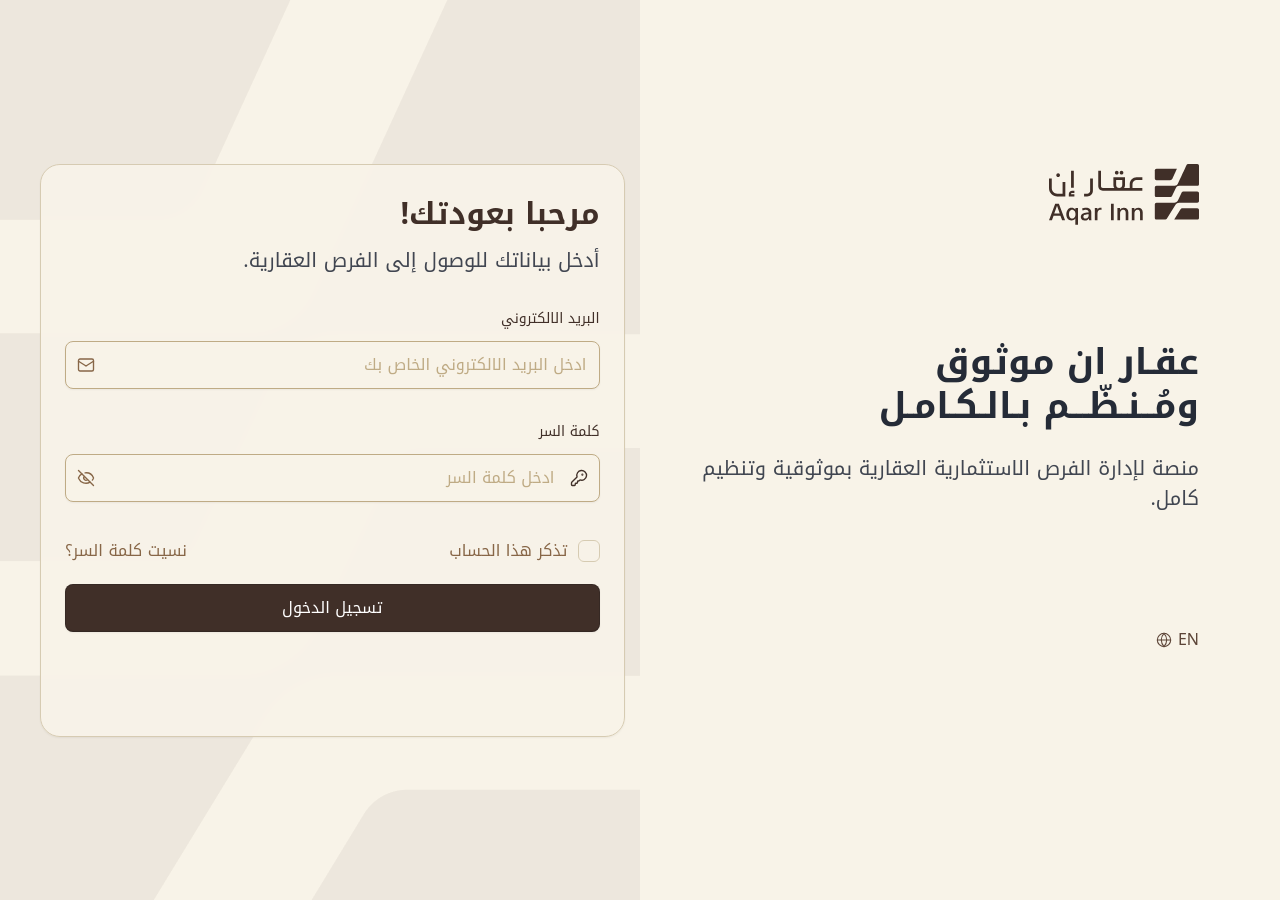
Auth flow routes › shows the invalid email state inside login
Type "invalid-email" into the field with placeholder "ادخل البريد الالكتروني الخاص بك". click: (332, 364)
box: [65, 340, 600, 388]
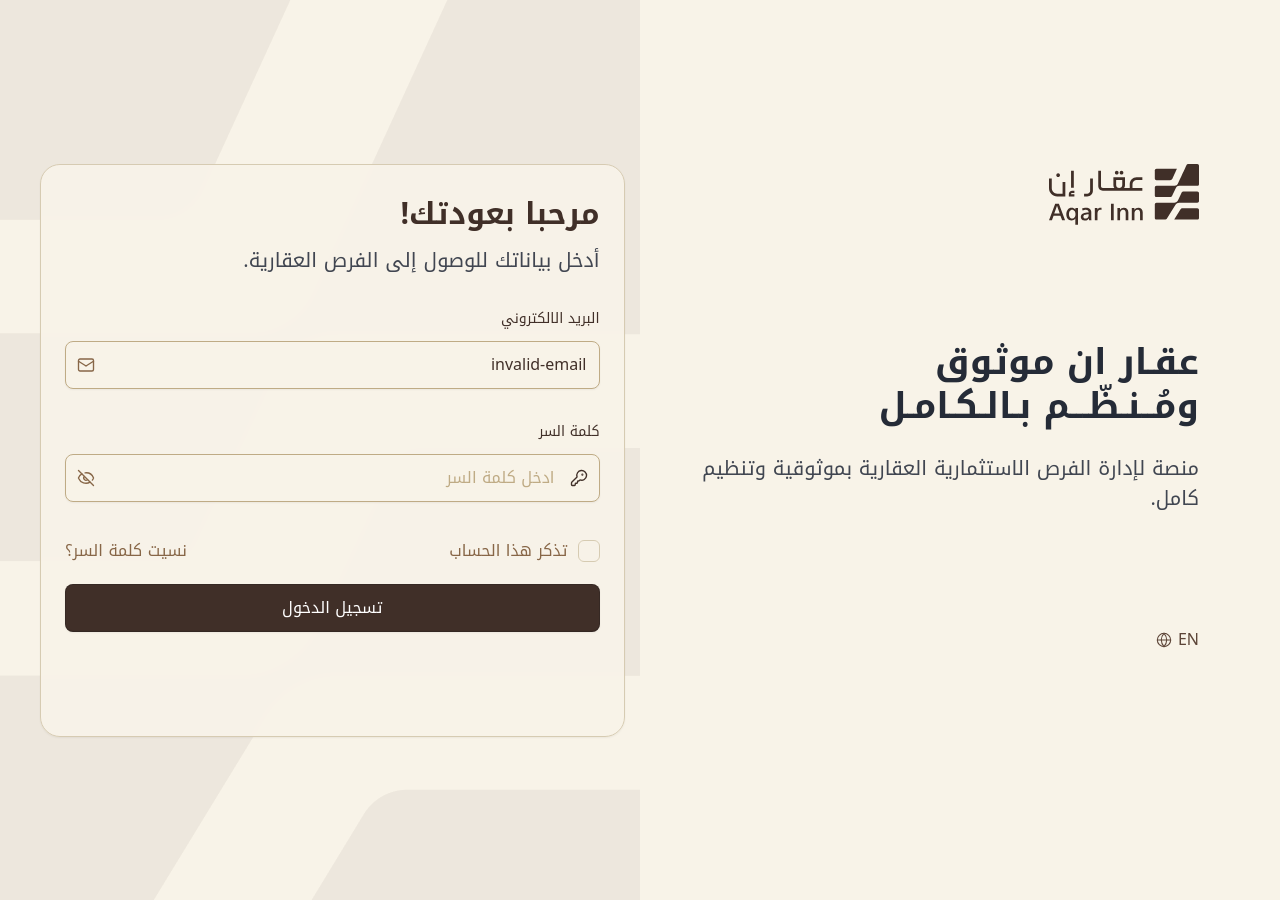
Type "123456" into the password field with placeholder "ادخل كلمة السر". click: (332, 478)
box: [65, 454, 600, 502]
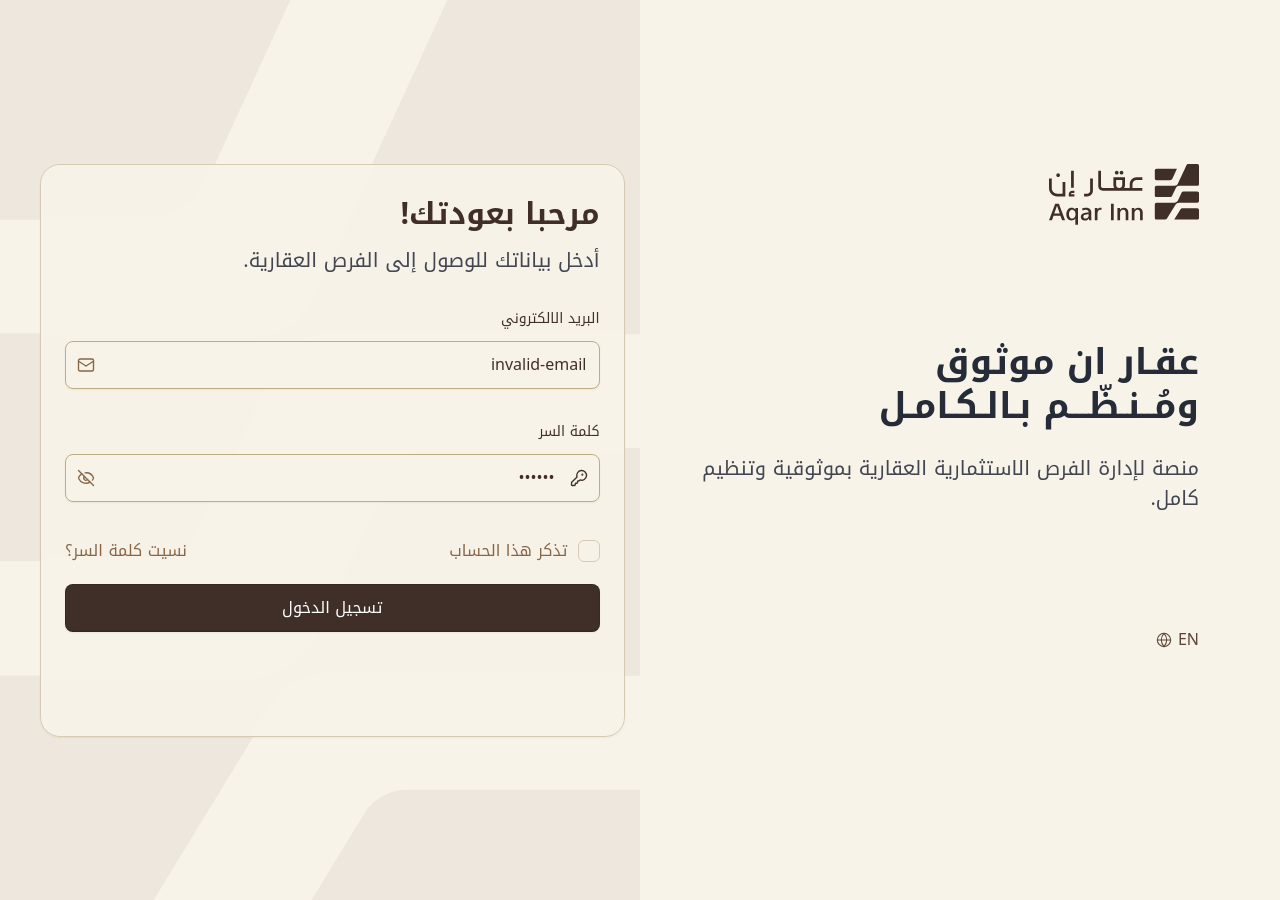
Click the button "تسجيل الدخول". click: (332, 608)
box: [65, 584, 600, 632]
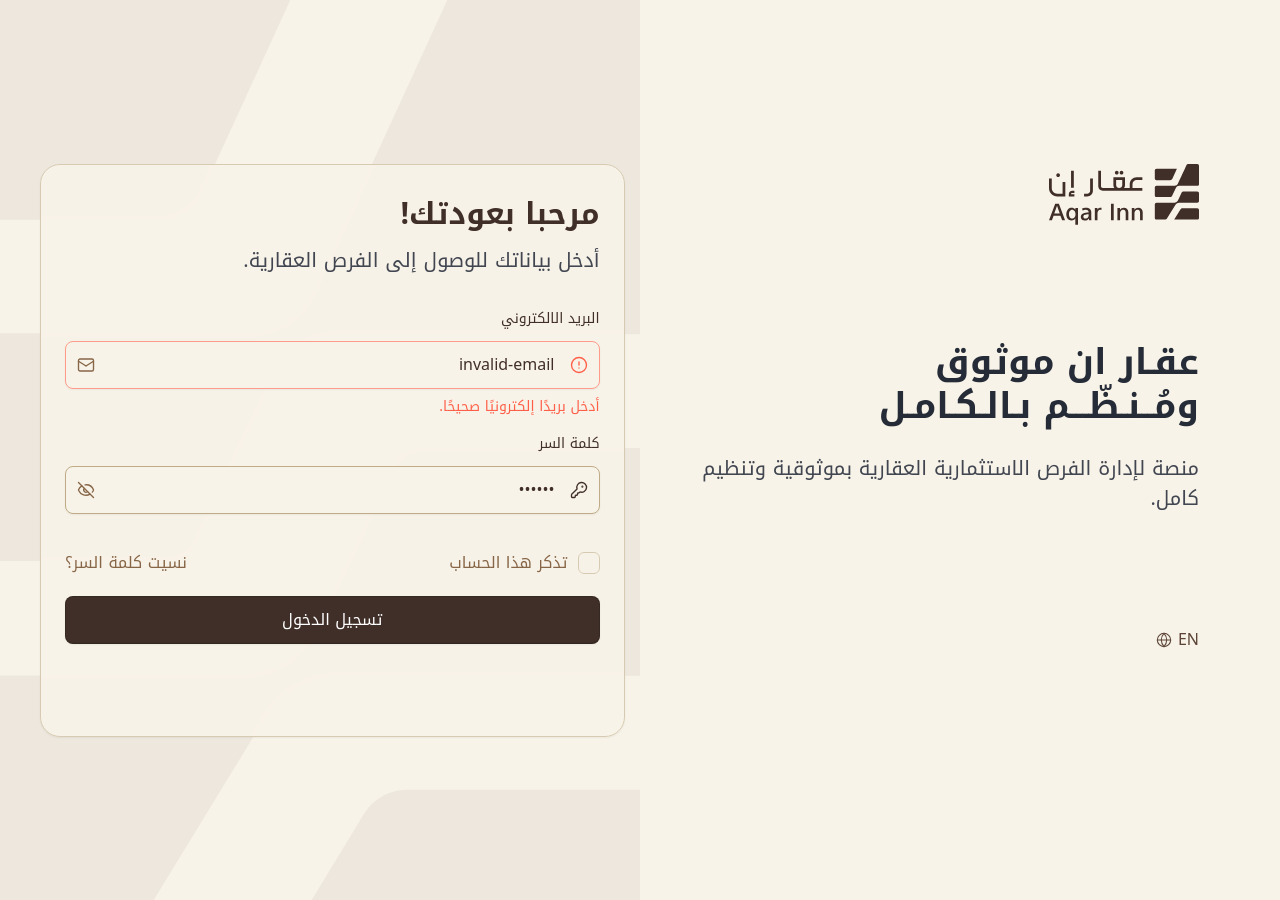
Check: the text "أدخل بريدًا إلكترونيًا صحيحًا." is shown, box [439, 392, 600, 420]
